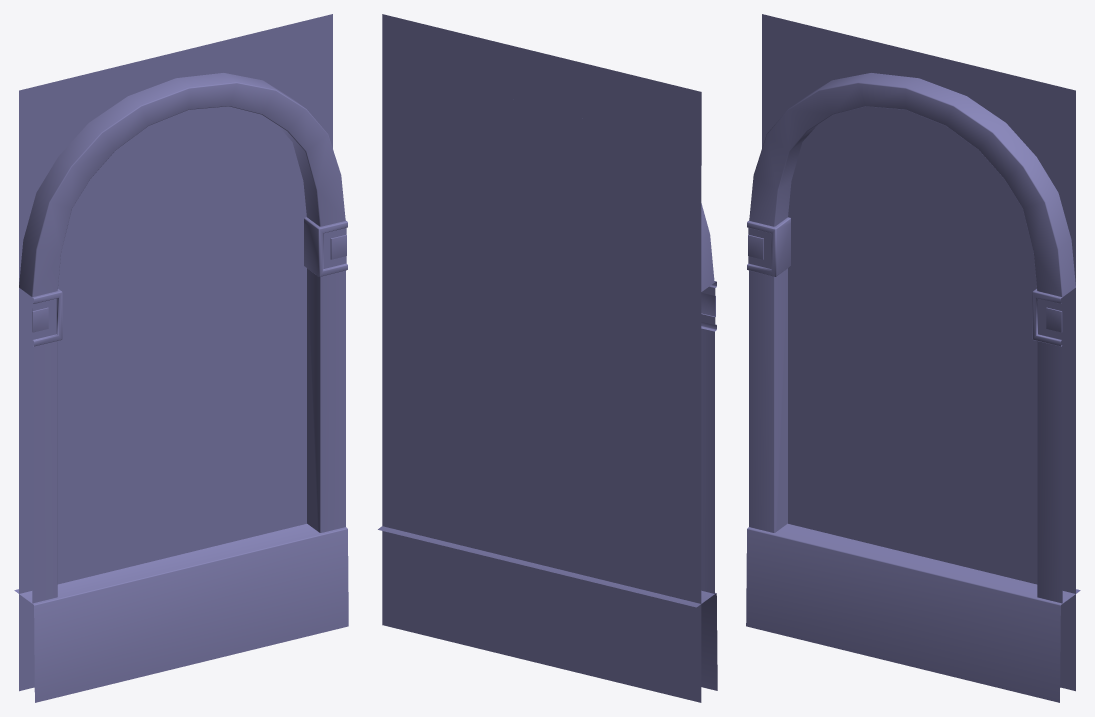
File: M_A_wall_05.fbx
The picture shows the model from 3 angles, left to right: view 1: azimuth 30°, elevation 25°; view 2: azimuth 150°, elevation 25°; view 3: azimuth 330°, elevation 25°; orthographic projection.
Parts seen in each view (by area): view 1: M_A_wall_05; view 2: M_A_wall_05; view 3: M_A_wall_05.
Boxes of the visible parts, x1,y1,x2,y2 form: M_A_wall_05: (14,14,348,702); M_A_wall_05: (378,14,717,702); M_A_wall_05: (746,14,1080,702).
Bounding box in the file's own units: 200 × 366 × 23.
